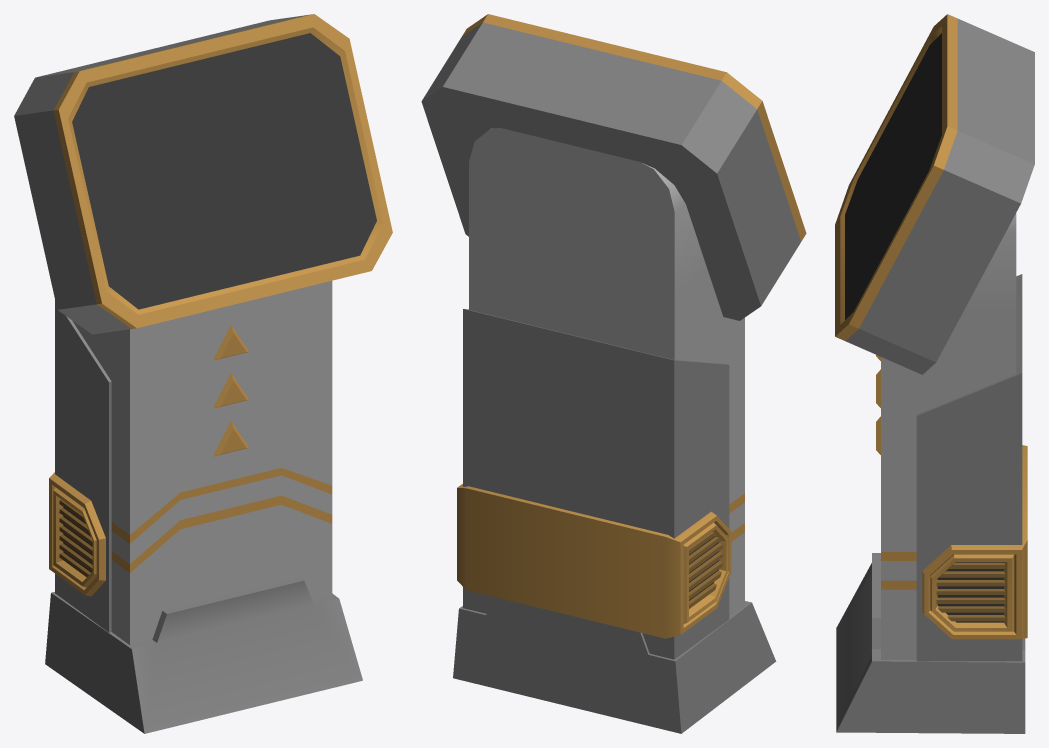
Rendered from Props_ComputerSmall_GD.glb.
3 views of the same model, side by side, from view 1: azimuth 30°, elevation 25°; view 2: azimuth 150°, elevation 25°; view 3: azimuth 270°, elevation 25° (orthographic). The views are drawn at different scales.
Visible parts, largest first — view 1: Props_ComputerSmall; view 2: Props_ComputerSmall; view 3: Props_ComputerSmall.
Part boxes in pixels (bbox=[...]): Props_ComputerSmall: bbox=[14, 14, 392, 733]; Props_ComputerSmall: bbox=[421, 14, 806, 733]; Props_ComputerSmall: bbox=[835, 14, 1034, 733].
Size of the model in its own units: 5.63 by 11.53 by 3.42.
